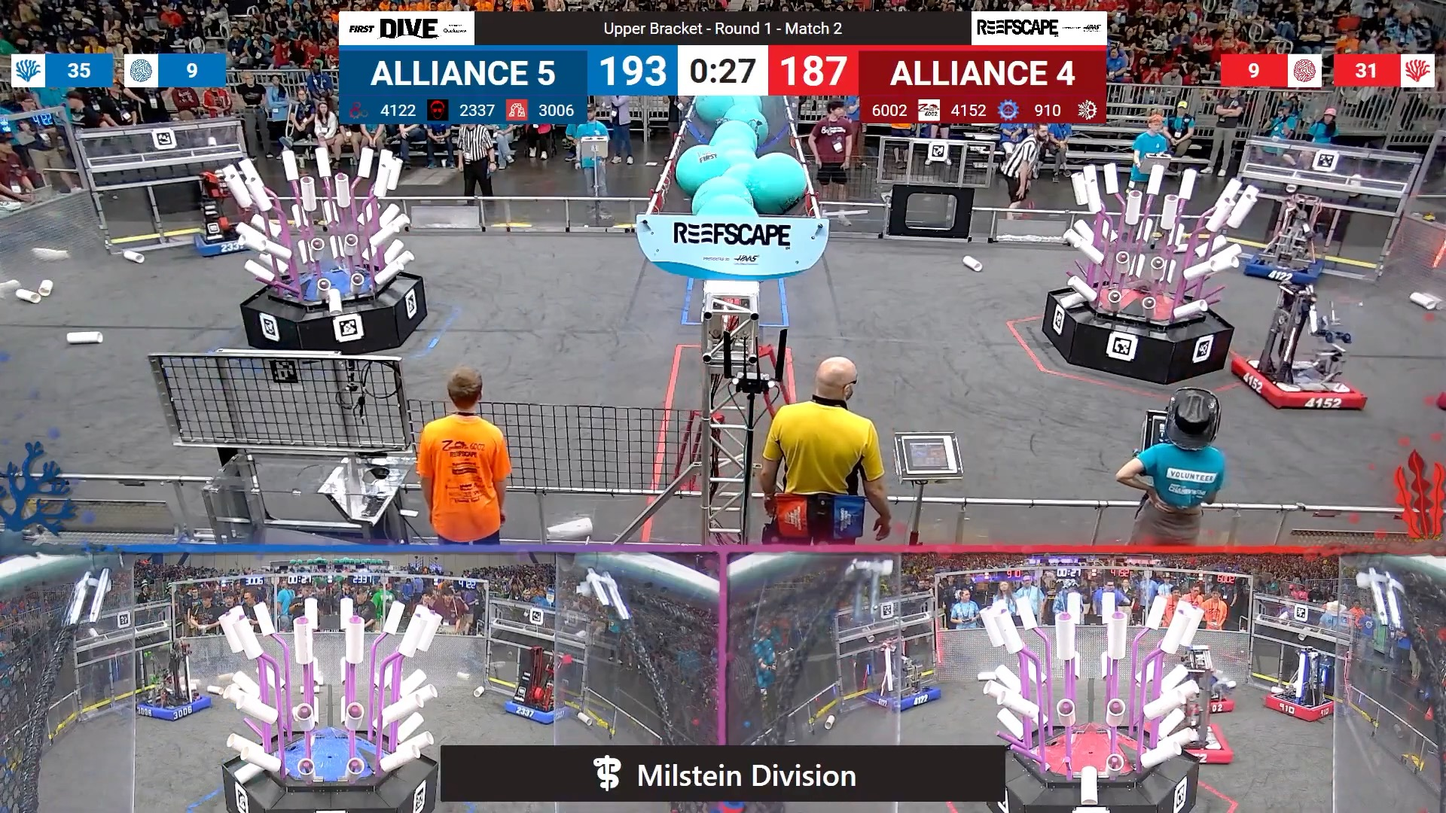bumpers: (1225, 354, 1373, 418), (130, 690, 219, 729), (1232, 252, 1332, 286), (863, 681, 946, 715), (1256, 691, 1344, 723), (1170, 724, 1237, 766), (497, 693, 575, 729), (188, 226, 264, 259), (1174, 689, 1239, 715)
